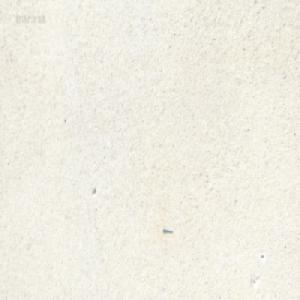Nail: (162, 227, 173, 235)
